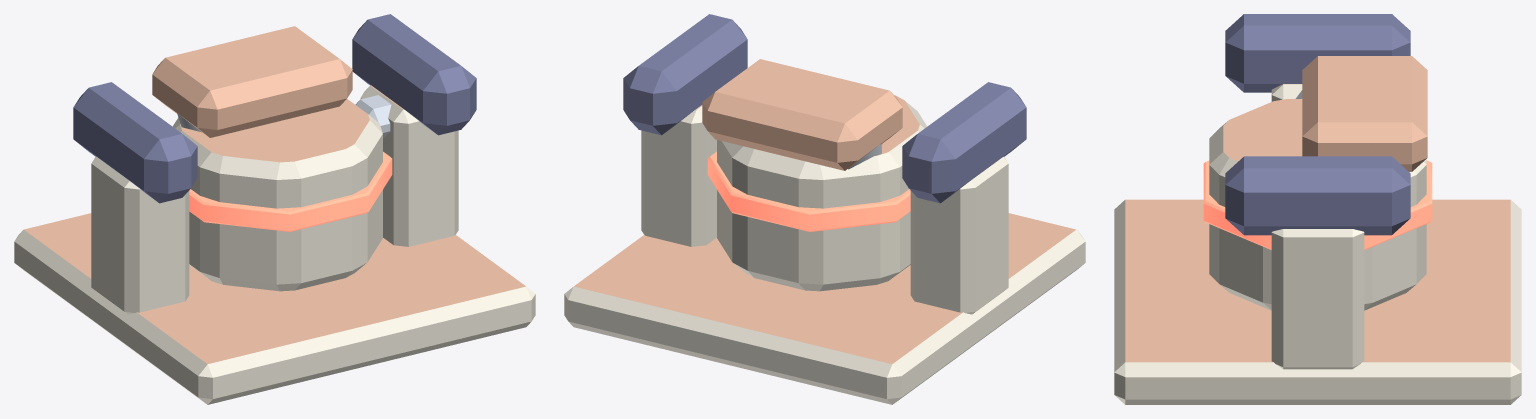
File: R4X_OffensiveTurretDeployer_LOD1.fbx
3 renders of one model, left to right at view 1: azimuth 30°, elevation 25°; view 2: azimuth 150°, elevation 25°; view 3: azimuth 270°, elevation 25°, orthographic. The views are drawn at different scales.
Visible parts, largest first — view 1: R4X_OffensiveTurretDeployer_LOD1; view 2: R4X_OffensiveTurretDeployer_LOD1; view 3: R4X_OffensiveTurretDeployer_LOD1.
Part boxes in pixels (left/top/right/bottom): R4X_OffensiveTurretDeployer_LOD1: left=14, top=14, right=535, bottom=404; R4X_OffensiveTurretDeployer_LOD1: left=564, top=14, right=1085, bottom=404; R4X_OffensiveTurretDeployer_LOD1: left=1114, top=14, right=1521, bottom=404.
Size of the model in its own units: 0.52 by 0.33 by 0.52.
